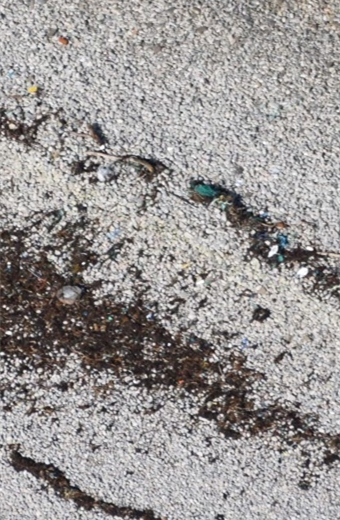scattered_barrel: (74, 113, 167, 189)
together_barrel: (191, 176, 340, 292)
white_in_green: (37, 264, 103, 322), (38, 17, 90, 65), (9, 64, 61, 112)
